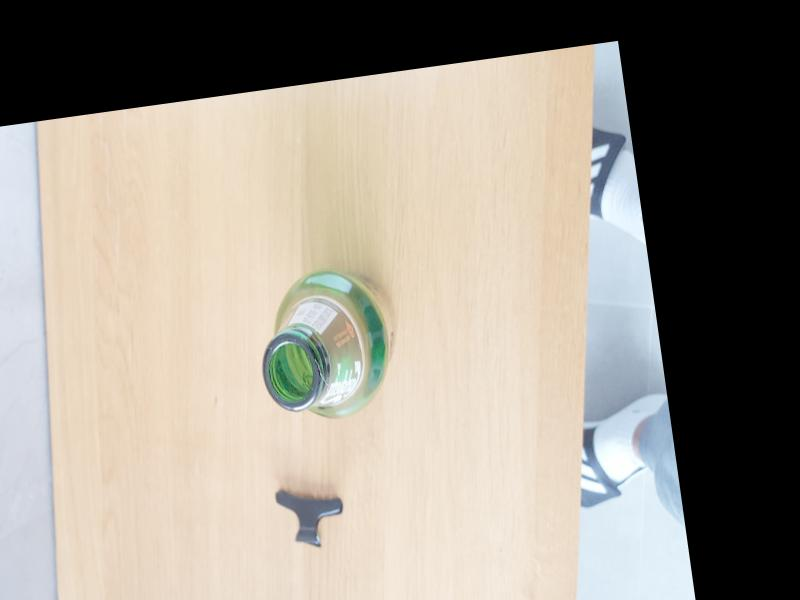Beer: (250, 261, 409, 431)
